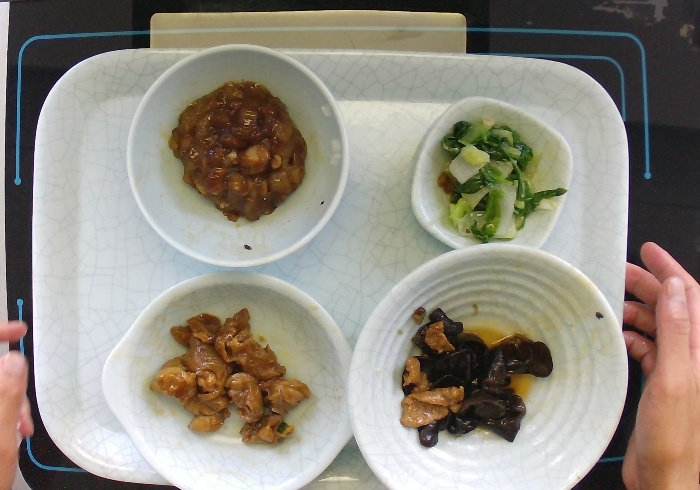JYsf-Fan_Wan: (125, 43, 355, 268)
JYsf-Shuang_Er_Wan: (99, 270, 361, 490)
JYsf-Si_Fang_Die: (408, 94, 574, 262)
JYsf-Xiao_Tang_Wan: (346, 241, 632, 490)
